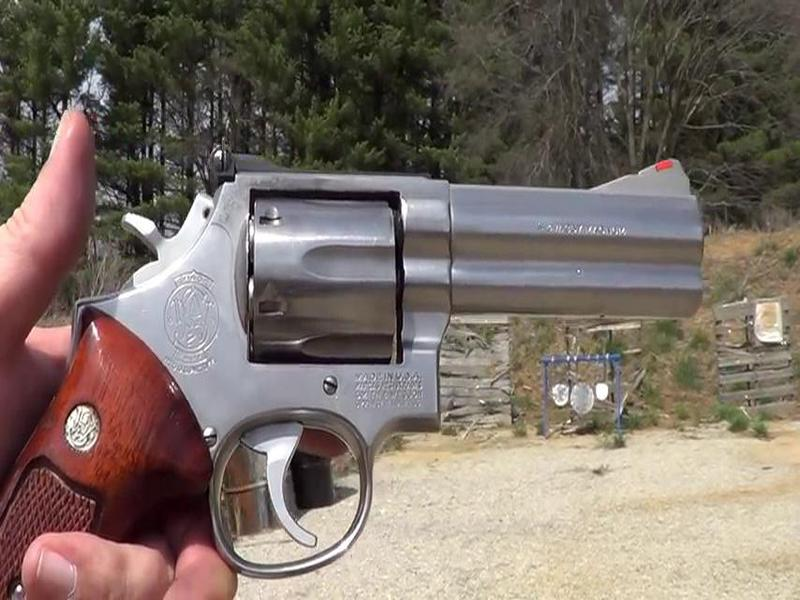Revolver: (72, 151, 702, 524)
